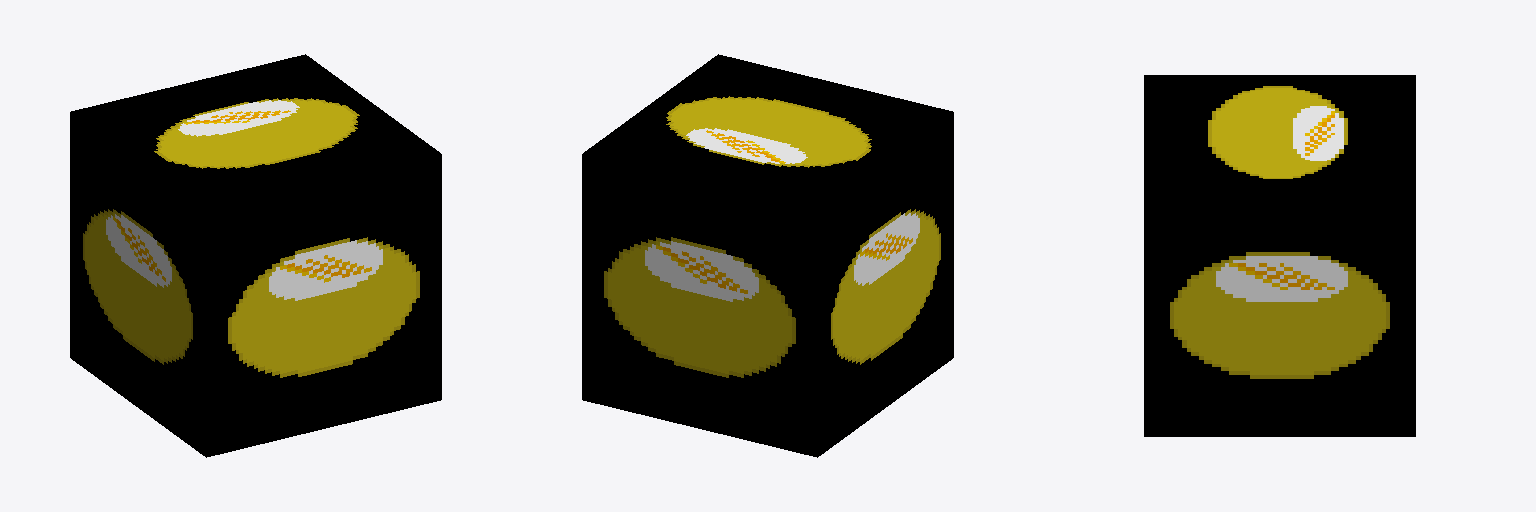
The picture shows the model from 3 angles: view 1: azimuth 30°, elevation 25°; view 2: azimuth 150°, elevation 25°; view 3: azimuth 270°, elevation 25°; orthographic projection.
Parts seen in each view (by area): view 1: potato-cooked; view 2: potato-cooked; view 3: potato-cooked.
Boxes of the visible parts, x1=… form: potato-cooked: x1=70, y1=54, x2=441, y2=457; potato-cooked: x1=582, y1=54, x2=953, y2=457; potato-cooked: x1=1144, y1=75, x2=1415, y2=436.
Bounding box in the file's own units: 1 × 1 × 1.
1 materials, 1 textured.